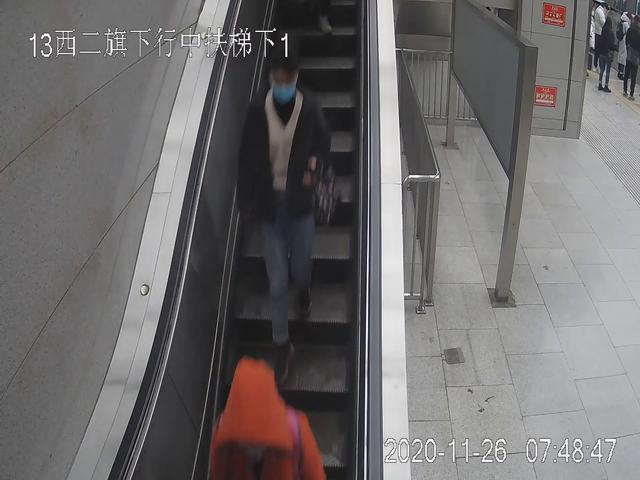person: (241, 48, 335, 382), (205, 357, 322, 480), (622, 15, 640, 99), (597, 16, 616, 92)
